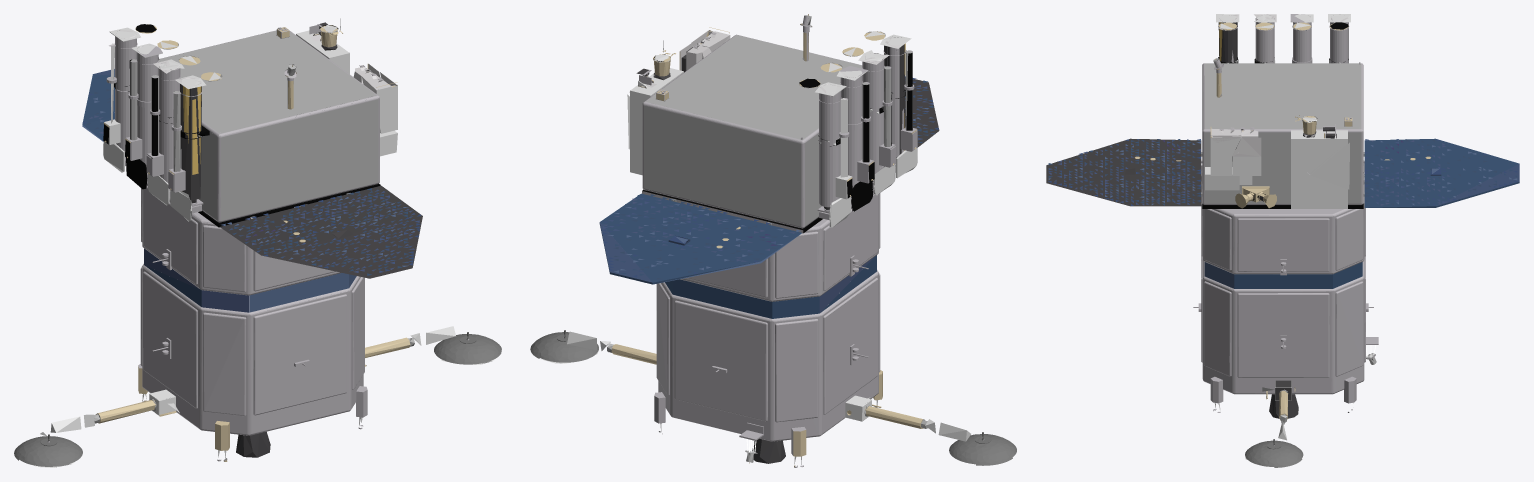
The model's file is sdo.glb.
The picture shows the model from 3 angles, left to right: view 1: azimuth 30°, elevation 25°; view 2: azimuth 150°, elevation 25°; view 3: azimuth 270°, elevation 25°; orthographic projection. The views are drawn at different scales.
Parts seen in each view (by area): view 1: Fake; view 2: Fake; view 3: Fake.
Boxes of the visible parts, box(x1,y1,x2,y2) form: Fake: box(14, 18, 501, 467); Fake: box(530, 14, 1016, 467); Fake: box(1046, 14, 1519, 467).
Size of the model in its own units: 37.02 by 30.71 by 37.03.
